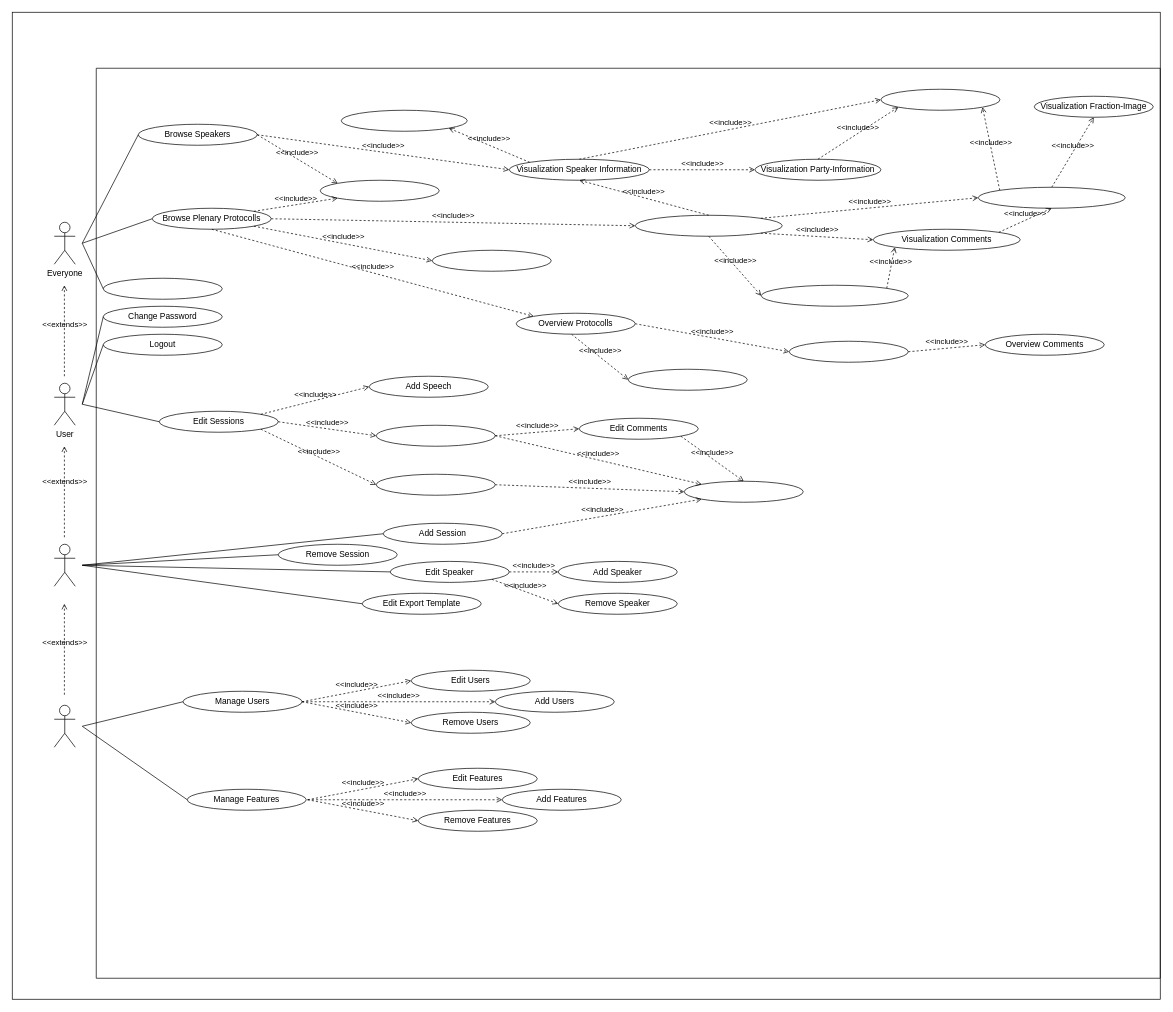
Image size: 1173x1012. Some labels were removed from this diagram. Here are the shapes that lost their labels. From the top down, the centre of each, then its label:
(x=940, y=99): Visualization Statistics
(x=404, y=120): Visualization Speaker-Image
(x=379, y=190): Visualization Graphs
(x=1051, y=197): Visualization Fraction-Informations
(x=708, y=225): Visualization Protocols
(x=491, y=260): Search Protocols
(x=162, y=288): Login
(x=834, y=295): Visualization NLP-Information
(x=848, y=351): Overview Speeches
(x=687, y=379): Overview TOPs
(x=435, y=435): Edit Speeches
(x=435, y=484): Edit TOP
(x=743, y=491): Save
(x=64, y=565): Manager
(x=64, y=726): Admin
